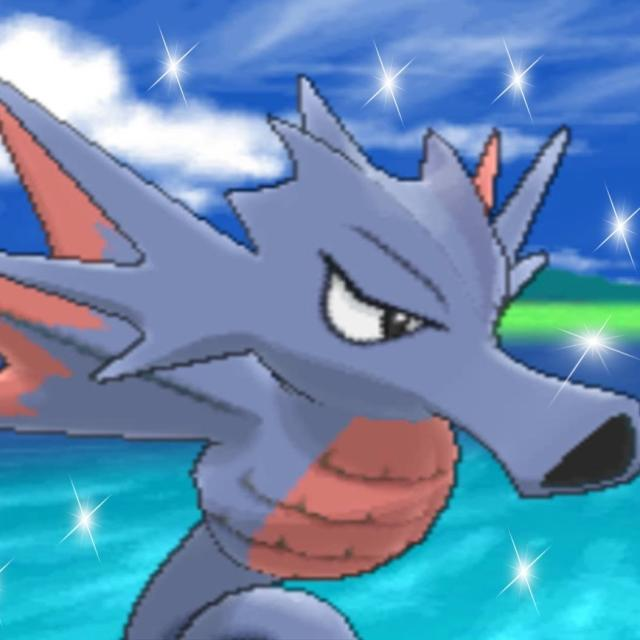Seadra: (92, 117, 629, 640)
